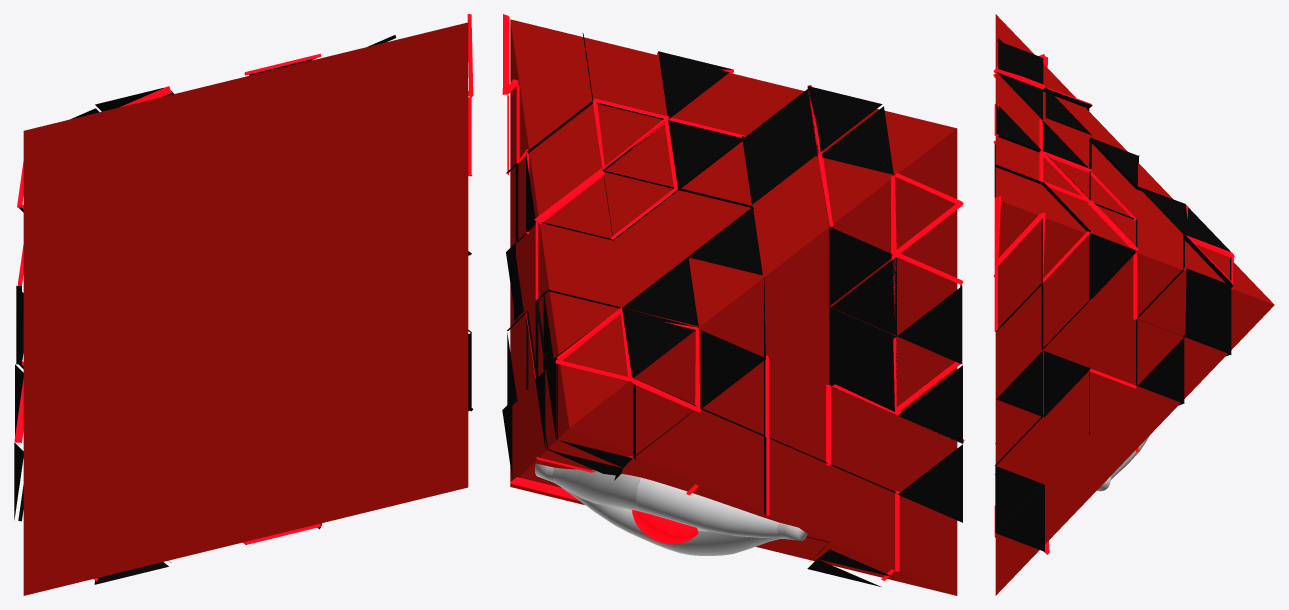
File: PiramideBossPetEsq.fbx
The picture shows the model from 3 angles, left to right: view 1: azimuth 30°, elevation 25°; view 2: azimuth 150°, elevation 25°; view 3: azimuth 270°, elevation 25°; orthographic projection. The views are drawn at different scales.
Visible parts, largest first — view 1: BasePiramideEsq, RelevoEsq1, RelevoEsq2; view 2: BasePiramideEsq, RelevoEsq1, RelevoEsq2, VoltaOlhoCimaEsq, VoltaOlhoBaixoEsq, PupilEsq; view 3: BasePiramideEsq, RelevoEsq1, RelevoEsq2.
Boxes of the visible parts, x1,y1,x2,y2 form: BasePiramideEsq: (23, 22, 468, 595); RelevoEsq1: (14, 35, 473, 584); RelevoEsq2: (14, 14, 473, 581); BasePiramideEsq: (510, 19, 957, 595); RelevoEsq1: (502, 33, 962, 586); RelevoEsq2: (502, 14, 964, 580); VoltaOlhoCimaEsq: (537, 467, 807, 540); VoltaOlhoBaixoEsq: (534, 463, 807, 555); PupilEsq: (632, 510, 698, 544); BasePiramideEsq: (995, 14, 1274, 595); RelevoEsq1: (994, 38, 1233, 551); RelevoEsq2: (993, 54, 1234, 554).
Size of the model in its own units: 140 by 140 by 87.2.
